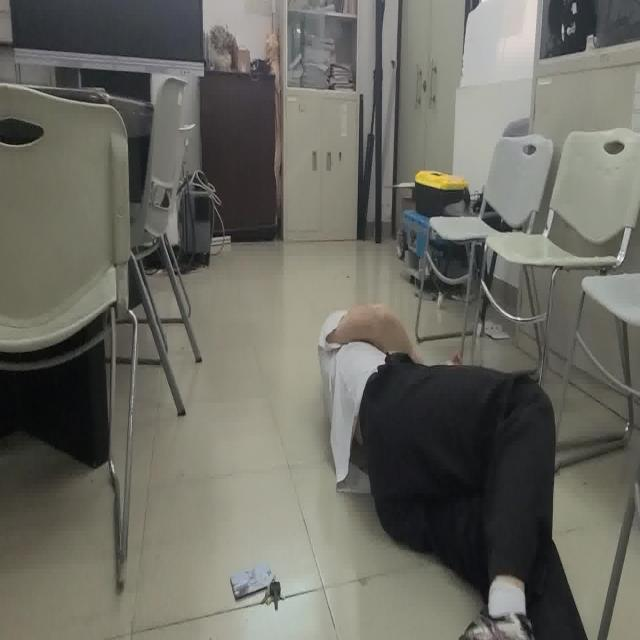Fall-Detected: (318, 307, 587, 640)
